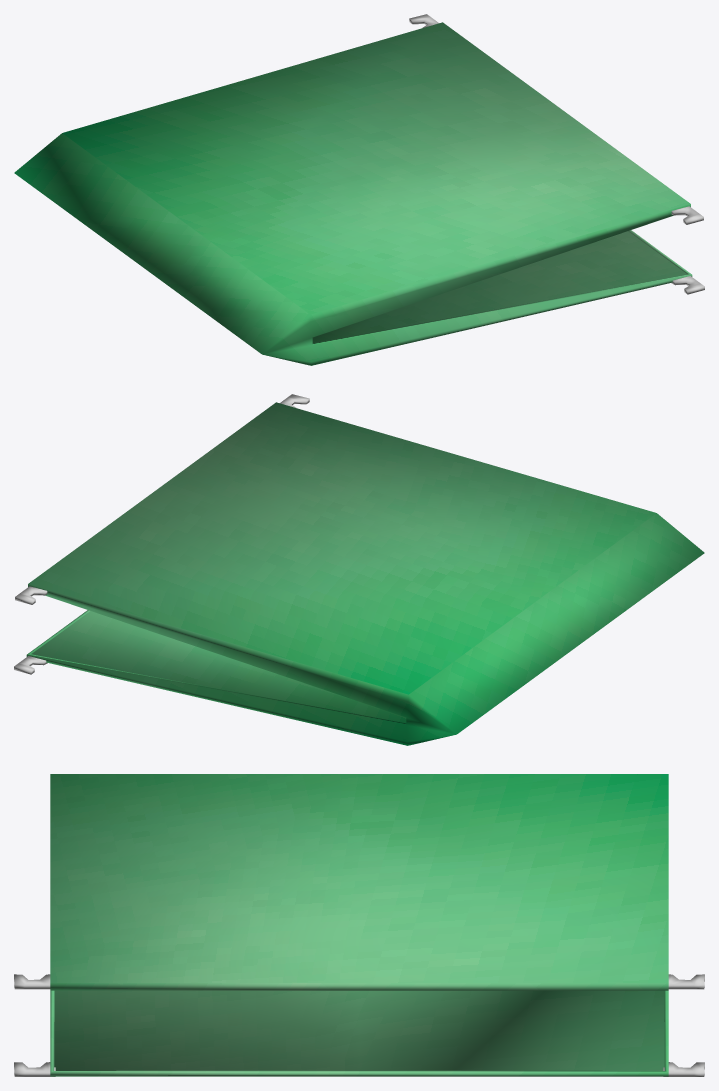
File: WorldItem_HCFolder2.fbx
3 renders of one model, top to bottom at view 1: azimuth 30°, elevation 25°; view 2: azimuth 150°, elevation 25°; view 3: azimuth 270°, elevation 25°, orthographic. The views are drawn at different scales.
Visible parts, largest first — view 1: HCFolder; view 2: HCFolder; view 3: HCFolder.
Part boxes in pixels (x1,y1,x2,y2): HCFolder: [14, 14, 704, 365]; HCFolder: [14, 394, 704, 745]; HCFolder: [14, 774, 704, 1076].
Bounding box in the file's own units: 0.2374 × 0.0399 × 0.2651.
